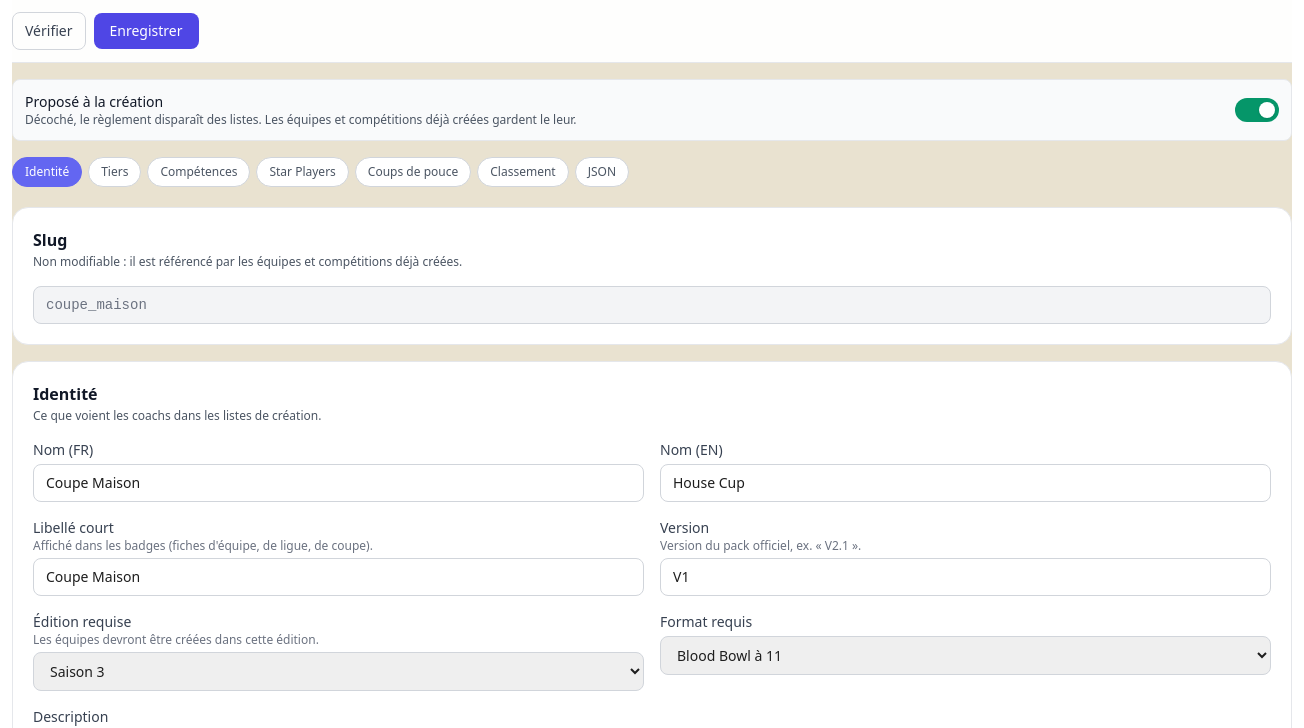
Scenario: enregistrement › un refus serveur n'efface pas la saisie
The width and height of the screenshot is (1304, 728).
Step 1. Replace the text in the field labelled "Nom (FR)" with "Coupe Modifiée" → (338,483), box top-left (33, 464), bottom-right (644, 502)
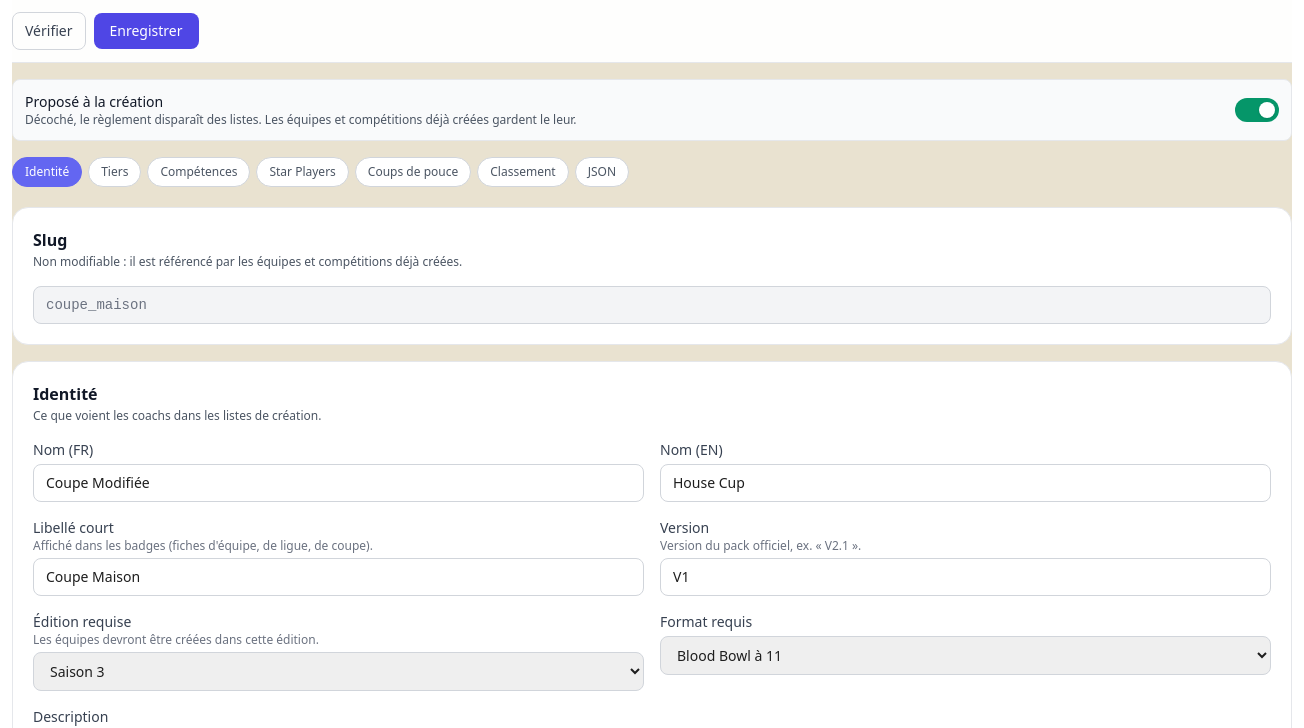
Step 2. Click the button with test id "ruleset-save" → (146,31), box top-left (94, 13), bottom-right (198, 49)
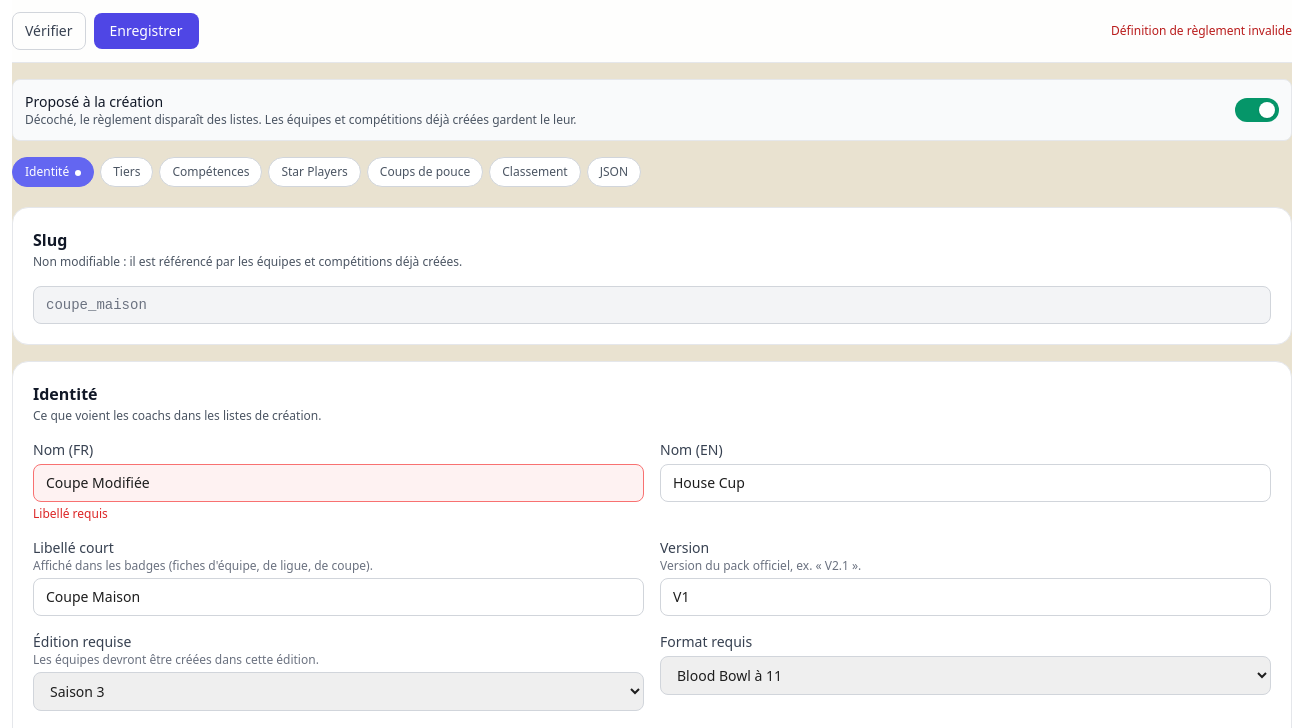
expect the message with test id "error-nameFr" reads "Libellé requis": met, box top-left (33, 505), bottom-right (108, 522)
